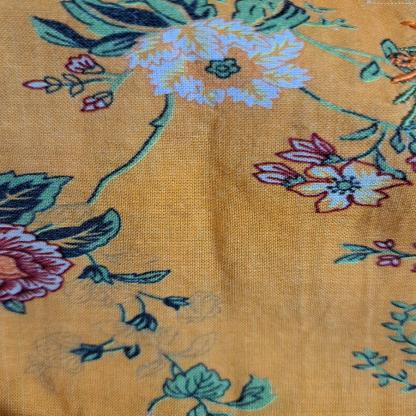spot: (157, 202, 200, 219)
